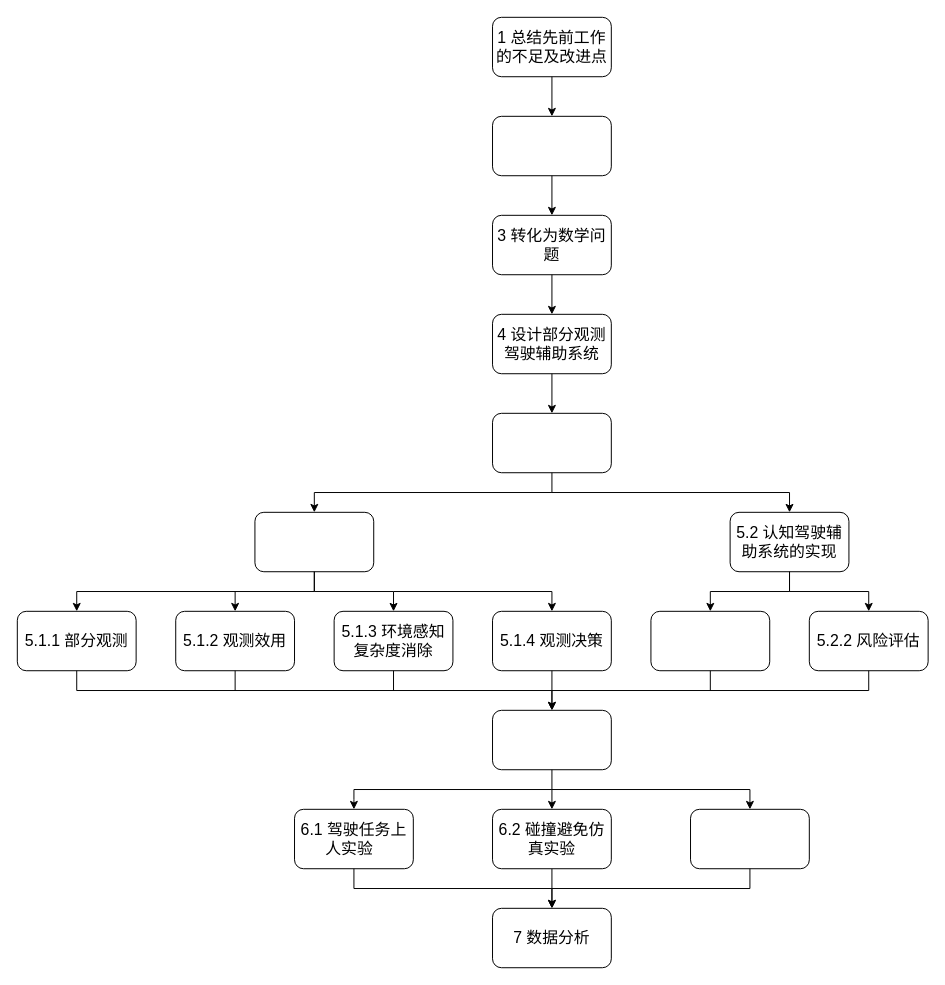
Some shapes in this 945 by 985 pixel diagram are drawn without their labels. Each missing label, with the centre of its shape:
"2 相关工作调研" goes at (551,145).
"5 系统实现" goes at (551,442).
"5.1 驾驶决策模型的实现" goes at (314,541).
"5.2.1 驾驶风格更新" goes at (710,640).
"6 实验设计" goes at (551,739).
"6.3 警告评估上人实验" goes at (749,838).
